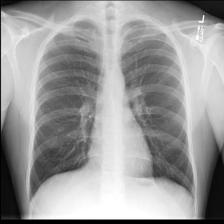normal: (25, 18, 198, 202)
